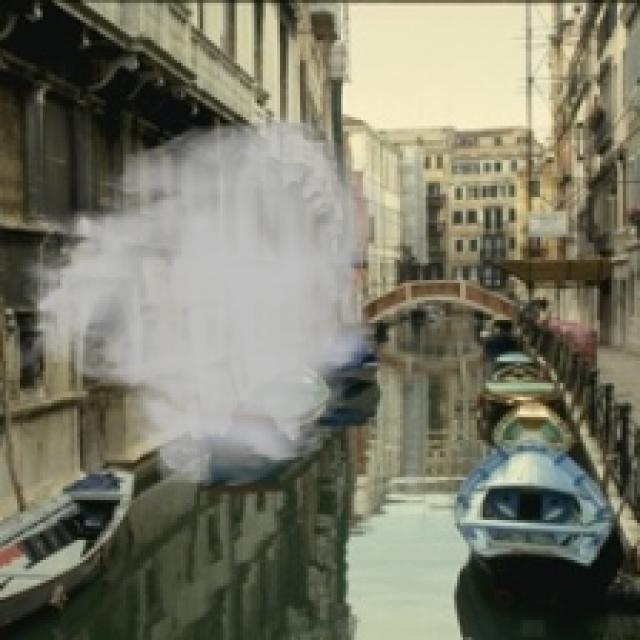smoke: (9, 106, 394, 491)
